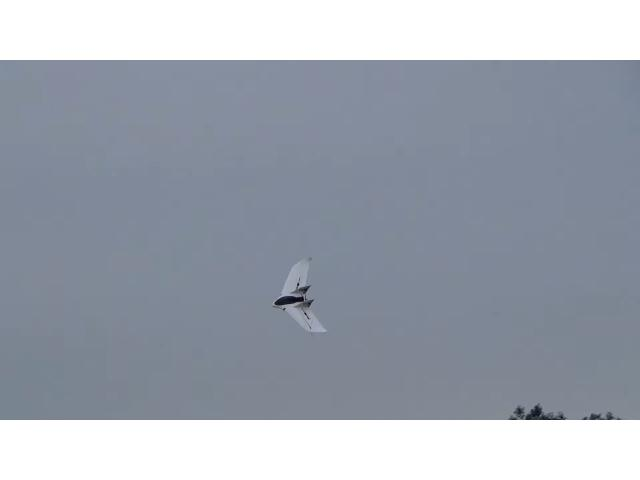Anti-Drone: (274, 260, 326, 330)
